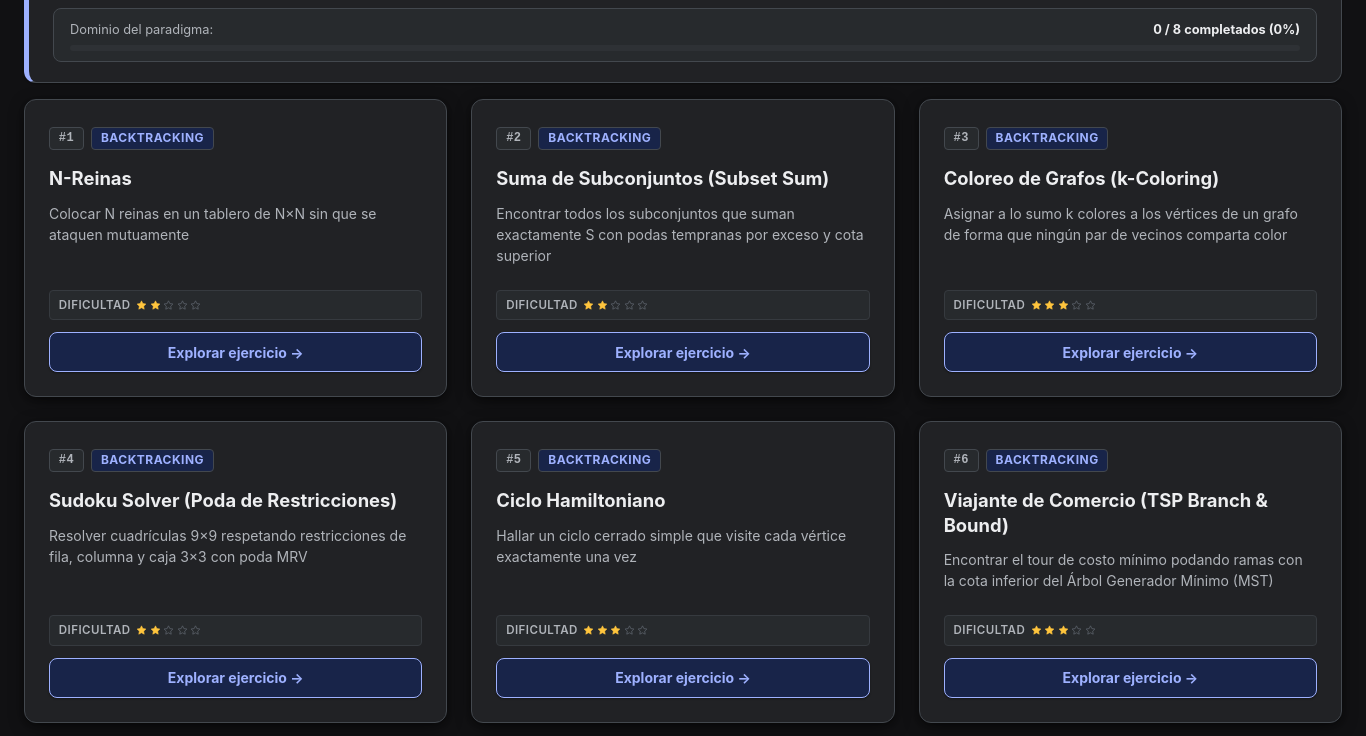
Test case: Phase D: Browser / User Journey Integration Verification (15 Core Flows) › Flow 4: Discover phase renders intuition and interactive playground
(page scrolled)
Click the button with class "btn-open-exercise" below "N-Reinas" at point(236, 352), box x1=49 y1=332 x2=422 y2=372
(page scrolled)
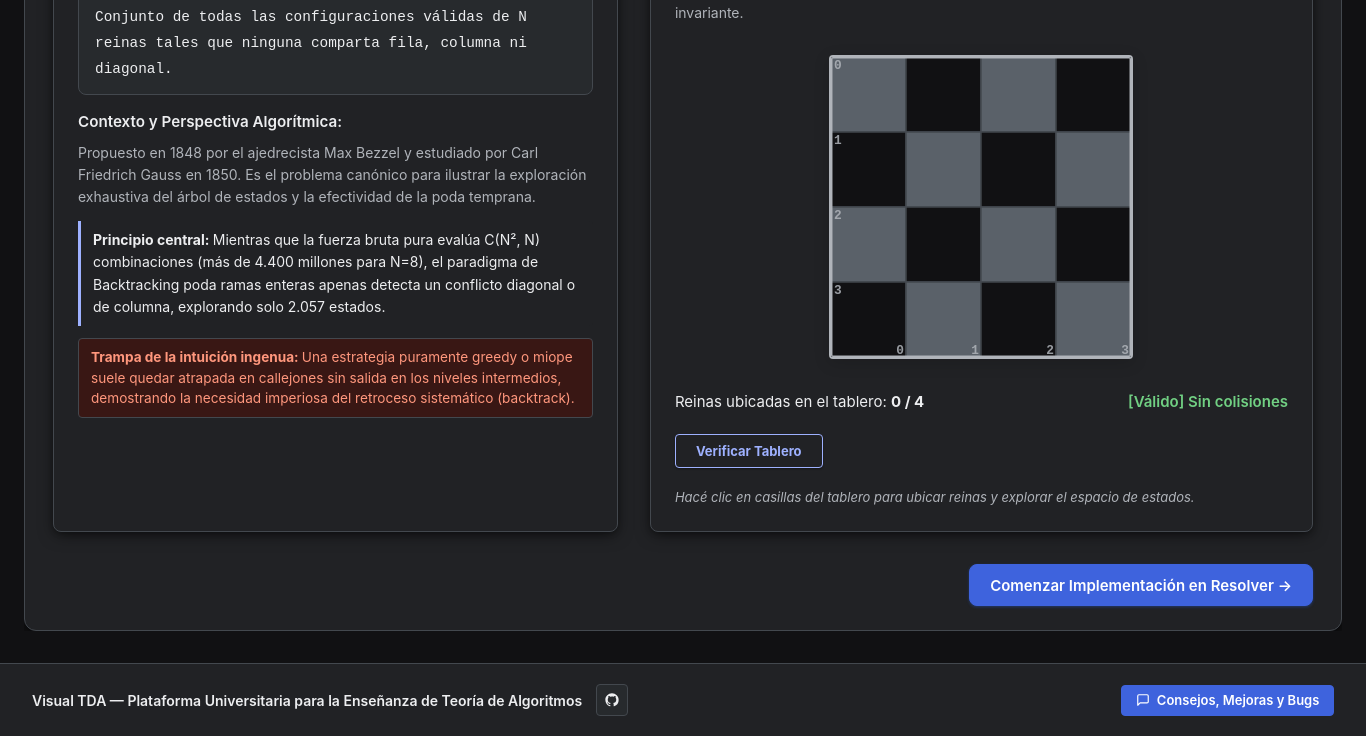
Result: the button "Comenzar Implementación en Resolver →" is shown at x1=969 y1=564 x2=1313 y2=606
